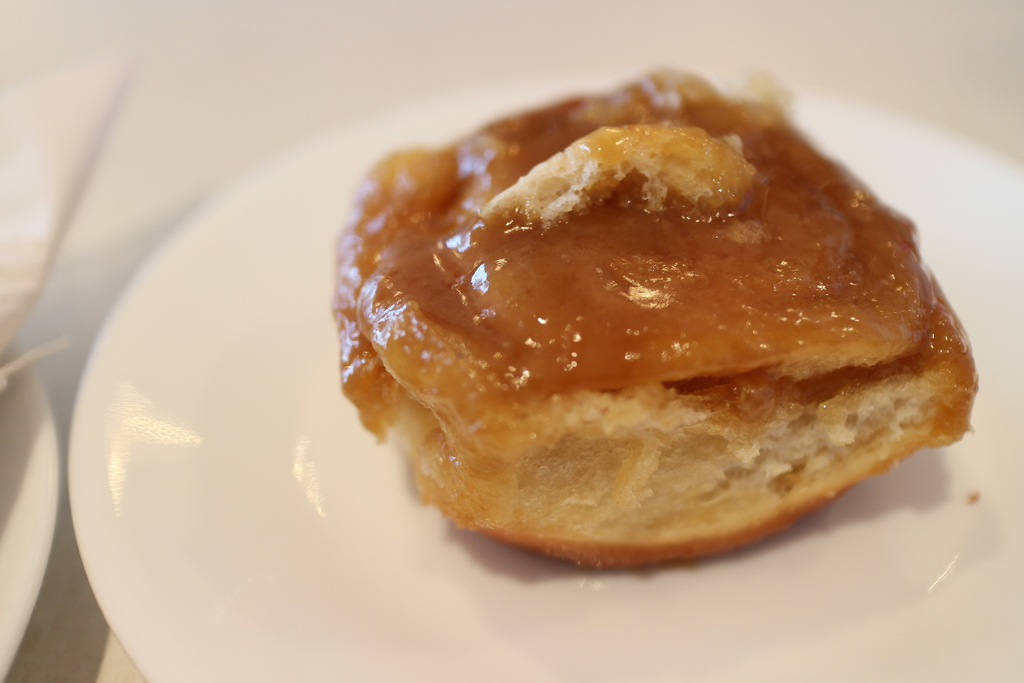plate: (0, 342, 70, 682)
